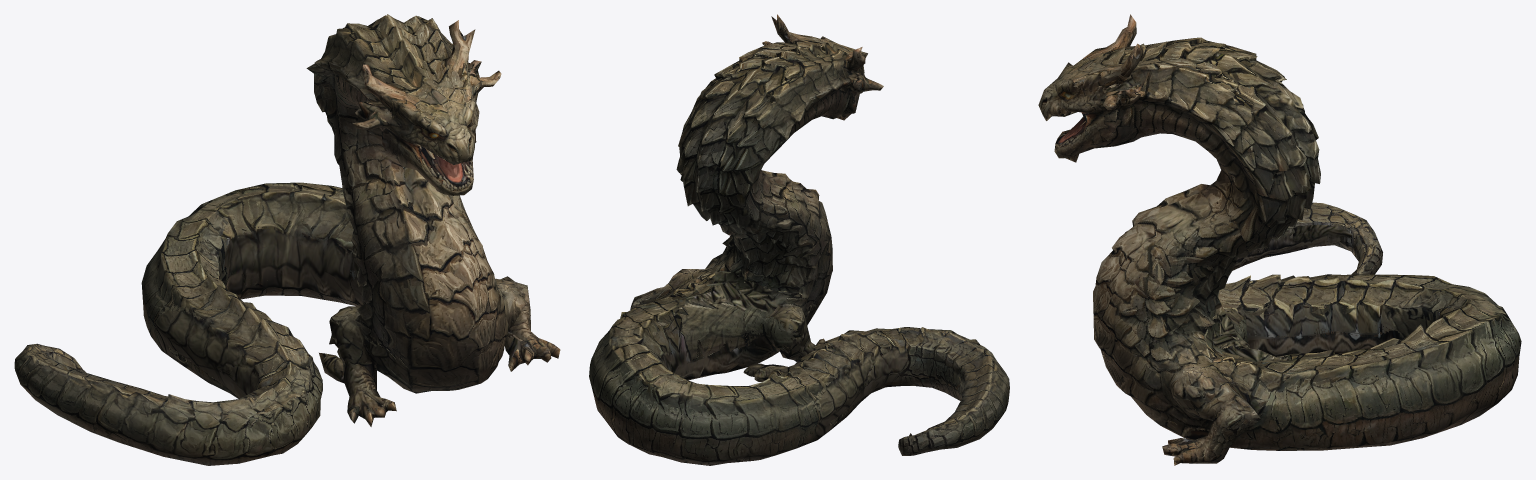
The model's file is Imugi.glb.
3 views of the same model, side by side, from view 1: azimuth 30°, elevation 25°; view 2: azimuth 150°, elevation 25°; view 3: azimuth 270°, elevation 25° (orthographic). The views are drawn at different scales.
Visible parts, largest first — view 1: texture_mapping; view 2: texture_mapping; view 3: texture_mapping.
Part boxes in pixels (x1,y1,x2,y2): texture_mapping: (14, 14, 560, 465); texture_mapping: (589, 14, 1009, 465); texture_mapping: (1038, 14, 1521, 465).
Bounding box in the file's own units: 0.9925 × 0.8089 × 0.9366.
1 material, 1 textured.
